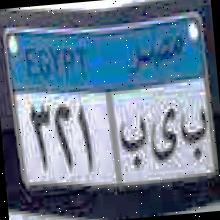1: (76, 103, 100, 176)
2: (52, 102, 78, 174)
3: (28, 103, 57, 175)
baa: (180, 100, 210, 162), (118, 116, 150, 169)
yaa: (147, 108, 180, 164)
